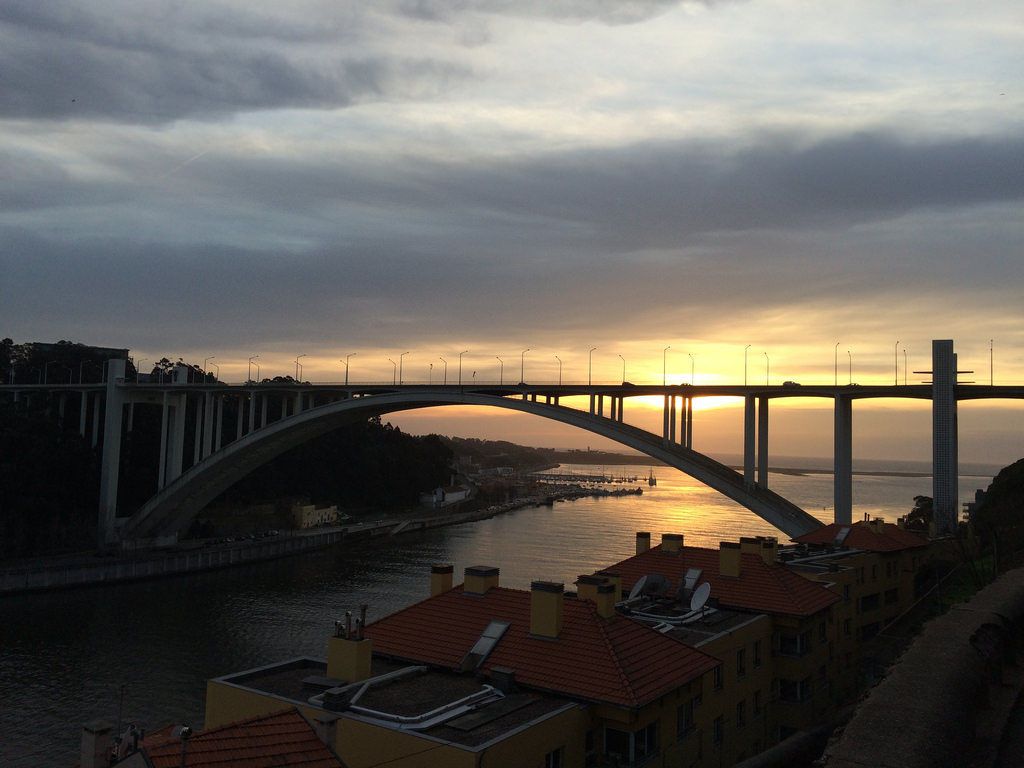arrabida: (0, 338, 1023, 550)
